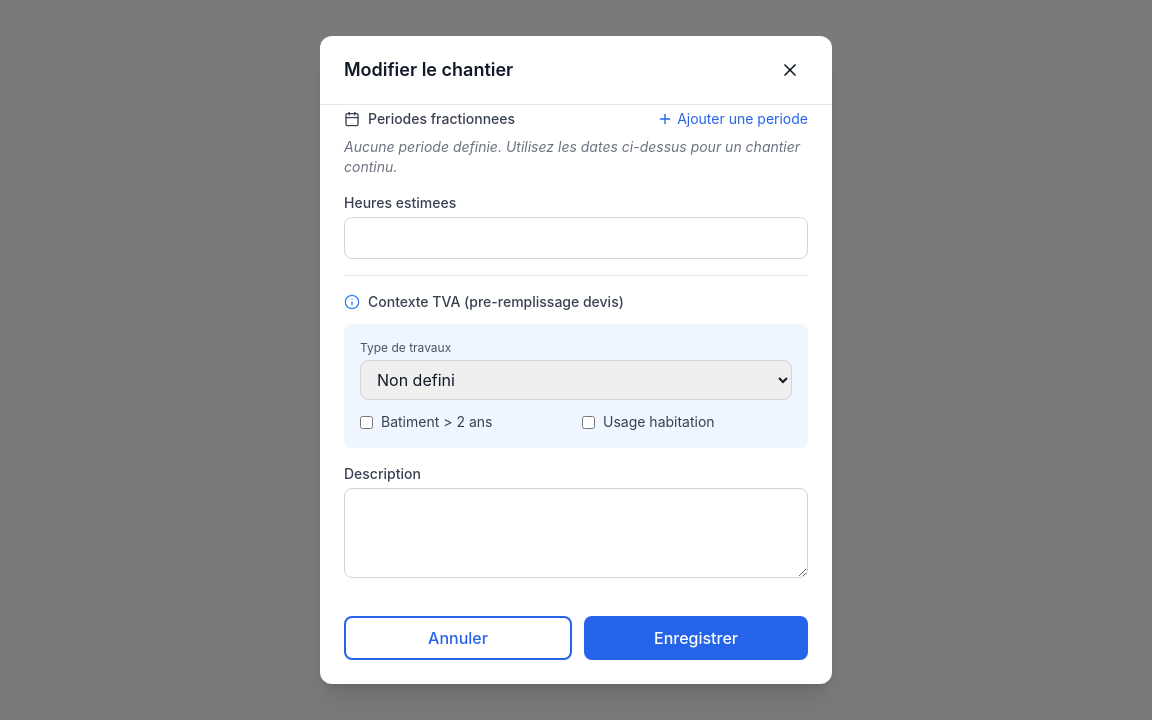
Test: EditChantierModal › Soumission › affiche un spinner pendant la soumission
The image size is (1152, 720).
(page scrolled)
What coordinates should you click on to do the following:
click the button "Enregistrer"
I would click on:
 (696, 638)
Its box is [584,616,808,660].
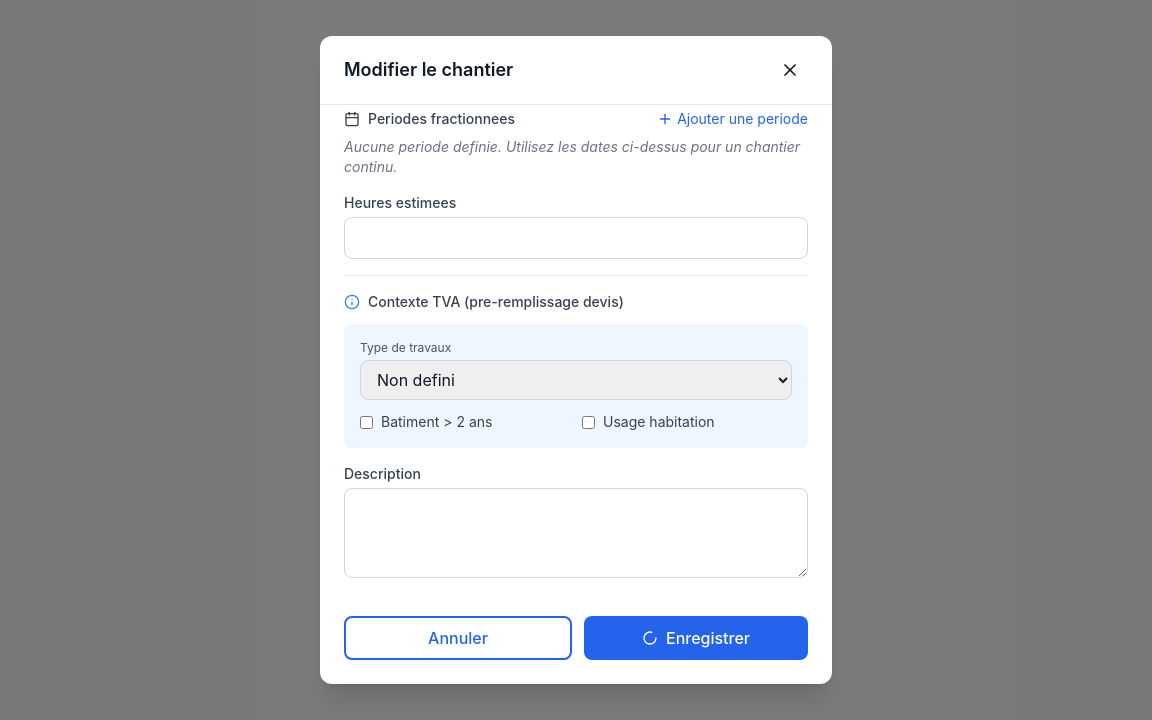
expect the icon with class "animate-spin" is shown: met, box [642,630,658,646]
